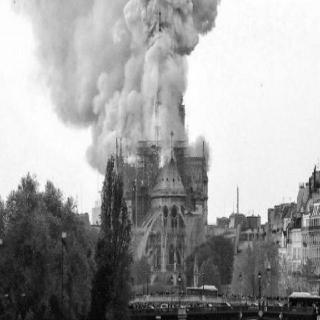Smoke: (18, 1, 194, 117)
